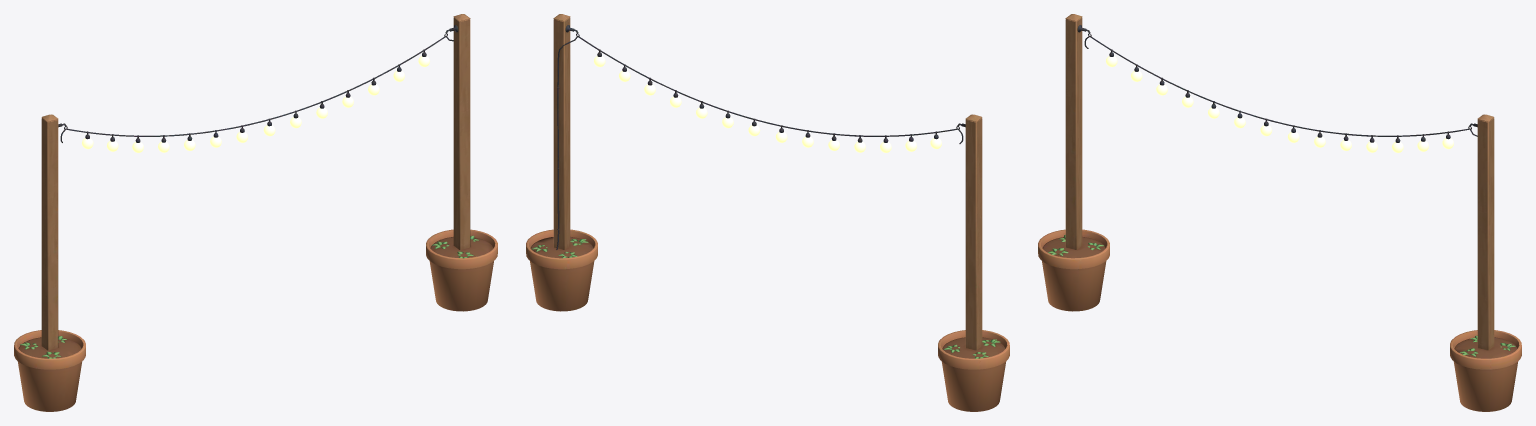
File: string-lights.glb
3 views of the same model, side by side, from view 1: azimuth 30°, elevation 25°; view 2: azimuth 150°, elevation 25°; view 3: azimuth 330°, elevation 25° (orthographic).
Parts seen in each view (by area): view 1: string-lights_body, string-lights_bulbs; view 2: string-lights_body, string-lights_bulbs; view 3: string-lights_body, string-lights_bulbs.
Part boxes in pixels (bbox=[...]): string-lights_body: bbox=[14, 14, 497, 411]; string-lights_bulbs: bbox=[82, 56, 429, 152]; string-lights_body: bbox=[526, 14, 1009, 411]; string-lights_bulbs: bbox=[594, 56, 941, 152]; string-lights_body: bbox=[1038, 14, 1521, 411]; string-lights_bulbs: bbox=[1106, 56, 1453, 152].
Bounding box in the file's own units: 3.69 × 2.13 × 0.486.
Materials: 2 (1 with a texture image).
